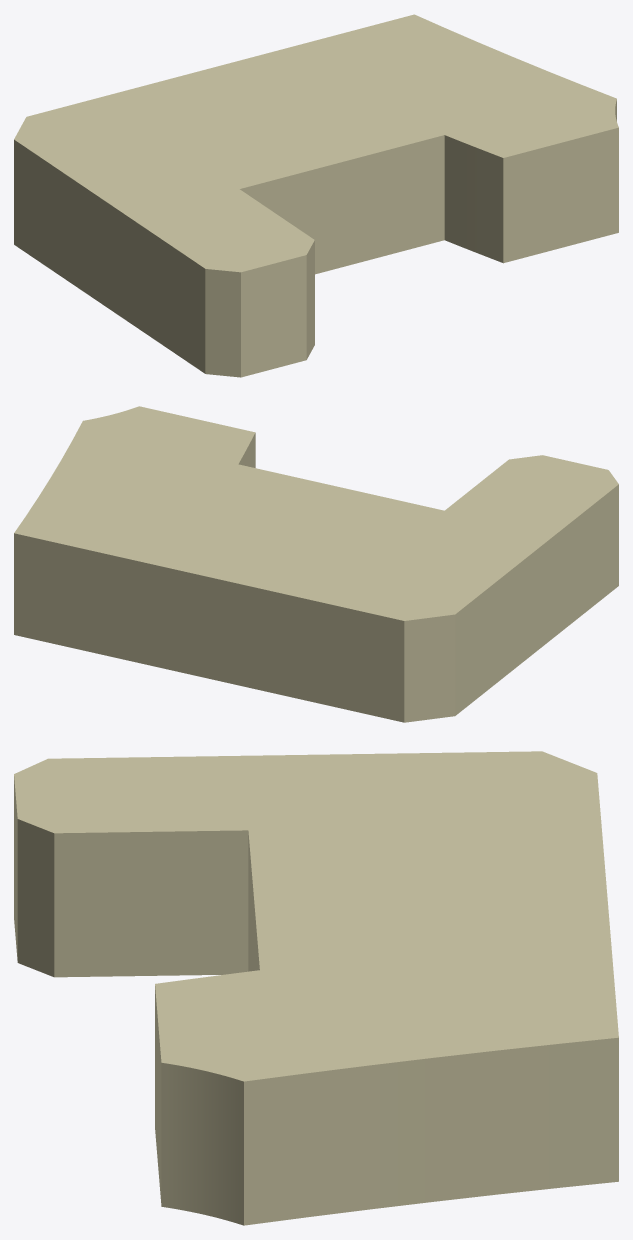
The model's file is SM_WhiteModel_5.FBX.
3 views of the same model, one above another, from view 1: azimuth 30°, elevation 25°; view 2: azimuth 150°, elevation 25°; view 3: azimuth 270°, elevation 25° (orthographic). The views are drawn at different scales.
Parts seen in each view (by area): view 1: SM_WhiteModel_5; view 2: SM_WhiteModel_5; view 3: SM_WhiteModel_5.
Boxes of the visible parts, x1=… form: SM_WhiteModel_5: x1=14, y1=14, x2=618, y2=377; SM_WhiteModel_5: x1=14, y1=406, x2=618, y2=722; SM_WhiteModel_5: x1=14, y1=751, x2=618, y2=1225.
Size of the model in its own units: 4424 by 3425 by 900.
